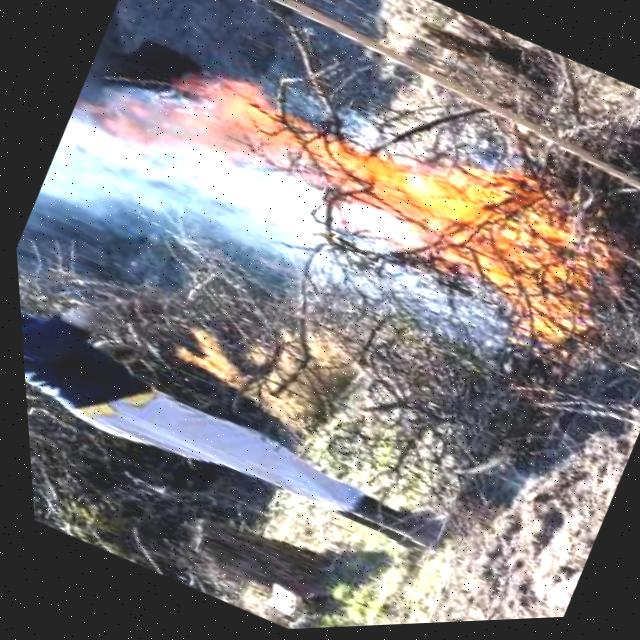Fire: (84, 0, 633, 376)
Smoke: (27, 82, 503, 400)
